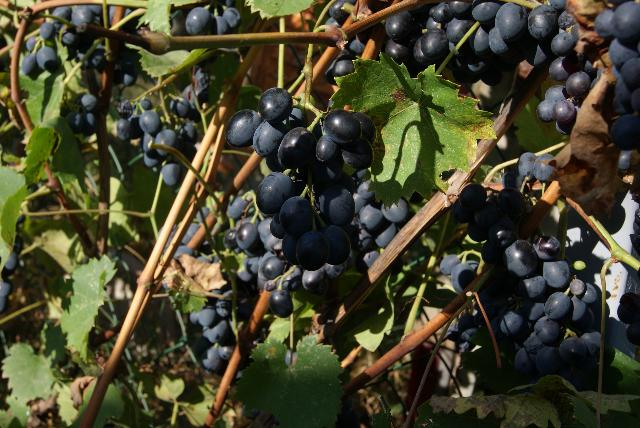grapes: (224, 89, 408, 294), (445, 170, 600, 390), (385, 0, 604, 134), (590, 0, 640, 160)
